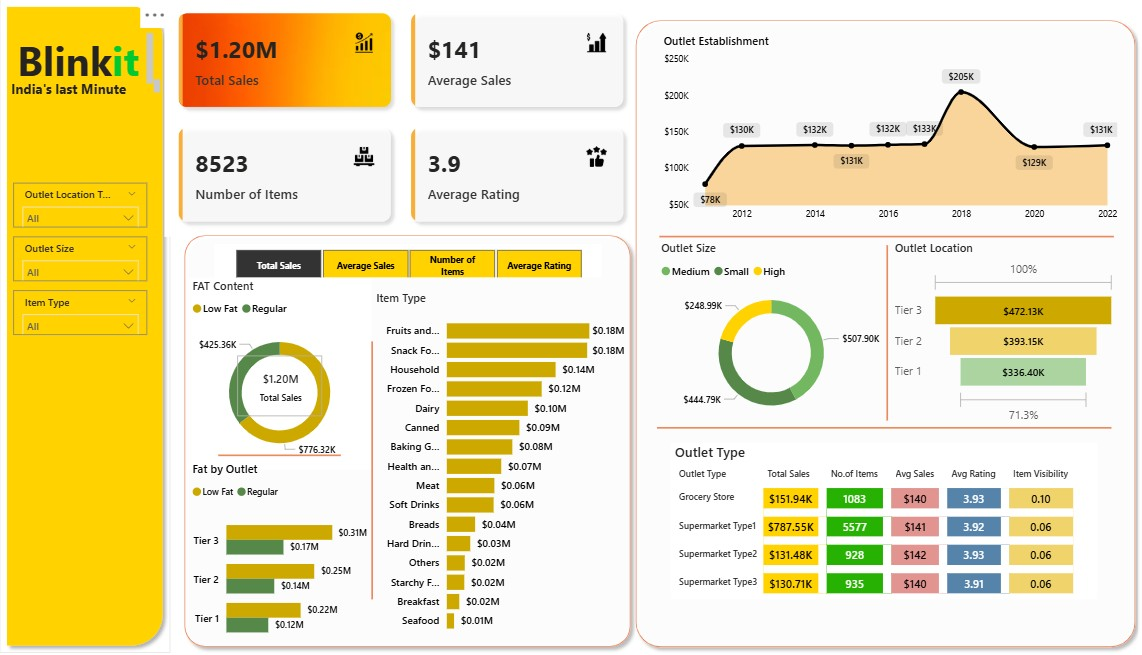

This screenshot's page, from the dashboard's own definition file:
{"tool":"powerbi","page":{"name":"Page 1","canvas":[1400,800],"ordinal":0},"visuals":[{"type":"shape","box":[9.4,0,205.1,785.5],"z":0},{"type":"textbox","box":[25.5,36.2,172.9,72.4],"z":1000},{"type":"textbox","box":[17.4,91.2,189,36.2],"z":2000},{"type":"cardVisual","fields":{"Data":["BlinkIT Grocery Data.Total Sales","BlinkIT Grocery Data.Average Sales","BlinkIT Grocery Data.Number of Items","BlinkIT Grocery Data.Average Rating"]},"box":[206.4,0,569.7,285.5],"z":3000},{"type":"shape","box":[222.5,274.8,553.6,512.1],"z":4000},{"type":"donutChart","title":"FAT Content","fields":{"Y":["BlinkIT Grocery Data.Total Sales"],"Category":["BlinkIT Grocery Data.Item Fat Content"]},"box":[235.9,335.1,219.8,230.6],"z":5000},{"type":"slicer","fields":{"Values":["Metrics.Metrics"]},"box":[266.8,294.9,465.1,40.2],"z":6000},{"type":"cardVisual","fields":{"Data":["BlinkIT Grocery Data.Total Sales"]},"box":[289.5,423.6,112.6,83.1],"z":7000},{"type":"clusteredBarChart","title":"Fat by Outlet","fields":{"Y":["BlinkIT Grocery Data.Total Sales"],"Category":["BlinkIT Grocery Data.Outlet Location Type"],"Series":["BlinkIT Grocery Data.Item Fat Content"]},"box":[235.9,555,219.8,230.6],"z":8000},{"type":"shape","box":[272.1,529.5,147.5,36.2],"z":9000},{"type":"shape","box":[382,411.5,147.5,309.7],"z":10000},{"type":"barChart","title":"Item Type","fields":{"Y":["BlinkIT Grocery Data.Total Sales"],"Category":["BlinkIT Grocery Data.Item Type"]},"box":[455.8,349.9,308.3,420.9],"z":11000},{"type":"shape","box":[764.1,16.1,618,770.8],"z":12000},{"type":"lineChart","title":"Outlet Establishment","fields":{"Y":["BlinkIT Grocery Data.Total Sales"],"Category":["BlinkIT Grocery Data.Outlet Establishment Year"]},"box":[801.6,40.2,555,234.6],"z":13000},{"type":"shape","box":[801.6,266.8,545.6,36.2],"z":14000},{"type":"donutChart","title":"Outlet Size","fields":{"Y":["BlinkIT Grocery Data.Total Sales"],"Category":["BlinkIT Grocery Data.Outlet Size"]},"box":[798.9,289.5,274.8,225.2],"z":15000},{"type":"shape","box":[1045.6,296.2,57.6,210.5],"z":16000},{"type":"funnel","title":"Outlet Location","fields":{"Category":["BlinkIT Grocery Data.Outlet Location Type"],"Y":["BlinkIT Grocery Data.Total Sales"]},"box":[1079.1,289.5,275,225],"z":17000},{"type":"shape","box":[798.9,497.3,545.6,36.2],"z":18000},{"type":"pivotTable","title":"Outlet Type","fields":{"Rows":["BlinkIT Grocery Data.Outlet Type"],"Values":["BlinkIT Grocery Data.Total Sales","BlinkIT Grocery Data.Number of Items","BlinkIT Grocery Data.Average Sales","BlinkIT Grocery Data.Average Rating","Avg(BlinkIT Grocery Data.Item Visibility)"]},"box":[815,533.5,512.1,187.7],"z":19000},{"type":"slicer","fields":{"Values":["BlinkIT Grocery Data.Outlet Location Type"]},"box":[25.5,221.2,160.9,53.6],"z":20000},{"type":"slicer","fields":{"Values":["BlinkIT Grocery Data.Outlet Size"]},"box":[25.5,285.5,160.9,53.6],"z":21000},{"type":"slicer","fields":{"Values":["BlinkIT Grocery Data.Item Type"]},"box":[25.5,349.9,160.9,53.6],"z":22000}]}

Visuals, with their boxes in screenshot pixels (x1, y1, x2, y2), scaled from the page's 1400x800 canvas onto the 1142x655 screenshot:
shape: {"x1": 8, "y1": 0, "x2": 175, "y2": 643}
textbox: {"x1": 21, "y1": 30, "x2": 162, "y2": 89}
textbox: {"x1": 14, "y1": 75, "x2": 168, "y2": 104}
cardVisual - BlinkIT Grocery Data.Total Sales x BlinkIT Grocery Data.Average Sales: {"x1": 168, "y1": 0, "x2": 633, "y2": 234}
shape: {"x1": 181, "y1": 225, "x2": 633, "y2": 644}
"FAT Content" donutChart: {"x1": 192, "y1": 274, "x2": 372, "y2": 463}
slicer - Metrics.Metrics: {"x1": 218, "y1": 241, "x2": 597, "y2": 274}
cardVisual - BlinkIT Grocery Data.Total Sales: {"x1": 236, "y1": 347, "x2": 328, "y2": 415}
"Fat by Outlet" clusteredBarChart: {"x1": 192, "y1": 454, "x2": 372, "y2": 643}
shape: {"x1": 222, "y1": 434, "x2": 342, "y2": 463}
shape: {"x1": 312, "y1": 337, "x2": 432, "y2": 590}
"Item Type" barChart: {"x1": 372, "y1": 286, "x2": 623, "y2": 631}
shape: {"x1": 623, "y1": 13, "x2": 1127, "y2": 644}
"Outlet Establishment" lineChart: {"x1": 654, "y1": 33, "x2": 1107, "y2": 225}
shape: {"x1": 654, "y1": 218, "x2": 1099, "y2": 248}
"Outlet Size" donutChart: {"x1": 652, "y1": 237, "x2": 876, "y2": 421}
shape: {"x1": 853, "y1": 243, "x2": 900, "y2": 415}
"Outlet Location" funnel: {"x1": 880, "y1": 237, "x2": 1105, "y2": 421}
shape: {"x1": 652, "y1": 407, "x2": 1097, "y2": 437}
"Outlet Type" pivotTable: {"x1": 665, "y1": 437, "x2": 1083, "y2": 590}
slicer - BlinkIT Grocery Data.Outlet Location Type: {"x1": 21, "y1": 181, "x2": 152, "y2": 225}
slicer - BlinkIT Grocery Data.Outlet Size: {"x1": 21, "y1": 234, "x2": 152, "y2": 278}
slicer - BlinkIT Grocery Data.Item Type: {"x1": 21, "y1": 286, "x2": 152, "y2": 330}
